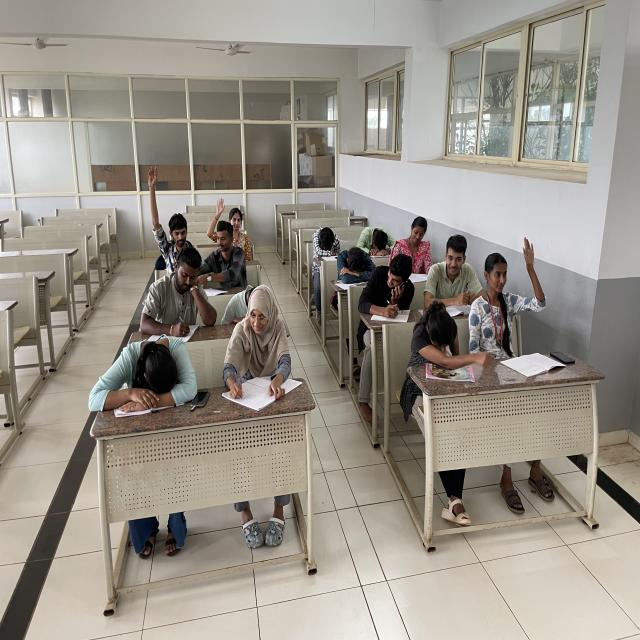Hand Rising: (472, 235, 549, 340), (144, 164, 198, 263), (206, 197, 252, 250)
Sleeping: (403, 296, 496, 388), (91, 334, 198, 404), (338, 246, 378, 284), (358, 226, 396, 259), (312, 226, 341, 261)
Using Phone: (367, 259, 415, 326)
Writing: (221, 282, 295, 403), (142, 252, 214, 340)
